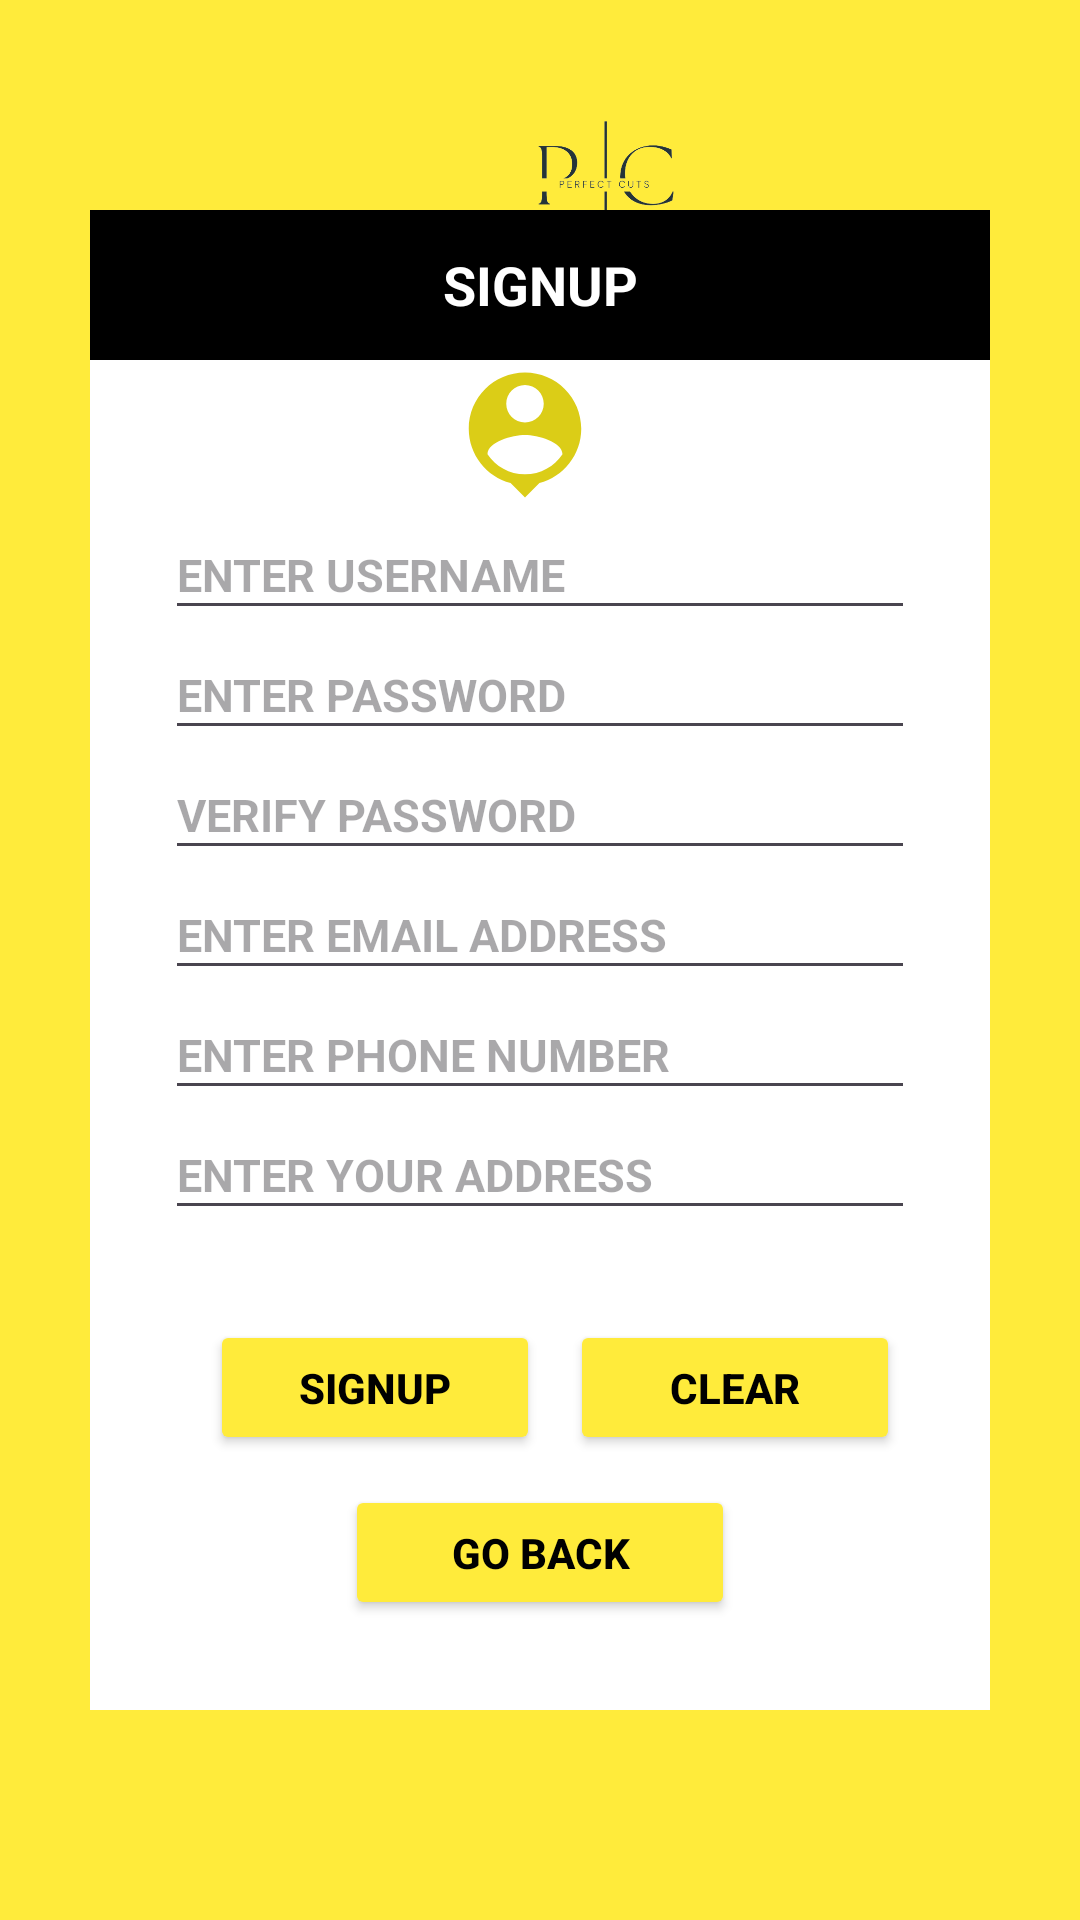

Icons on this 1080*1920 Android screen, each with the point to tap as [x,y]:
person pin: [525,435]
